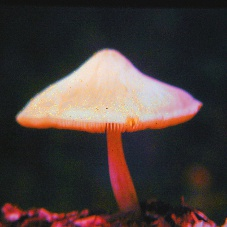mushroom: (24, 46, 205, 212)
